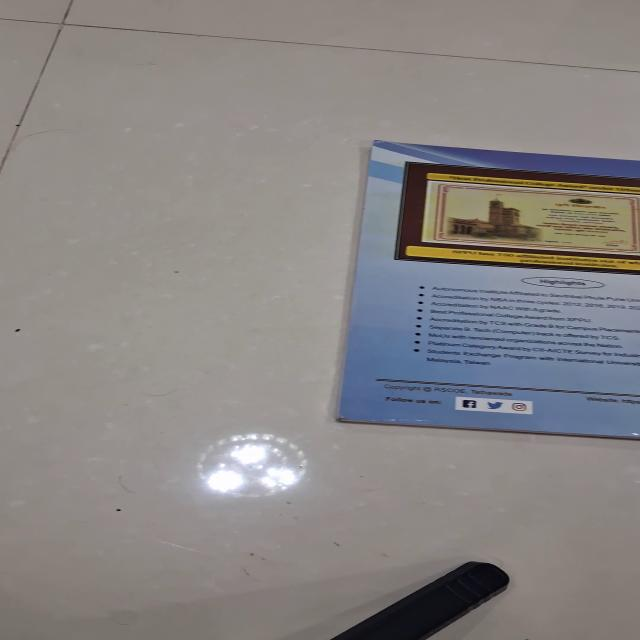paper: (334, 139, 638, 440)
